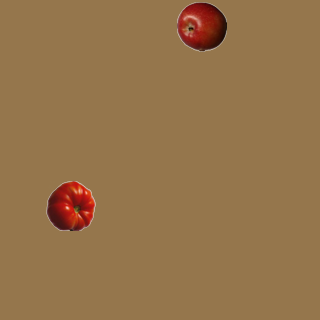Apple Braeburn: (176, 1, 226, 51)
Tomato 3: (45, 180, 95, 230)
